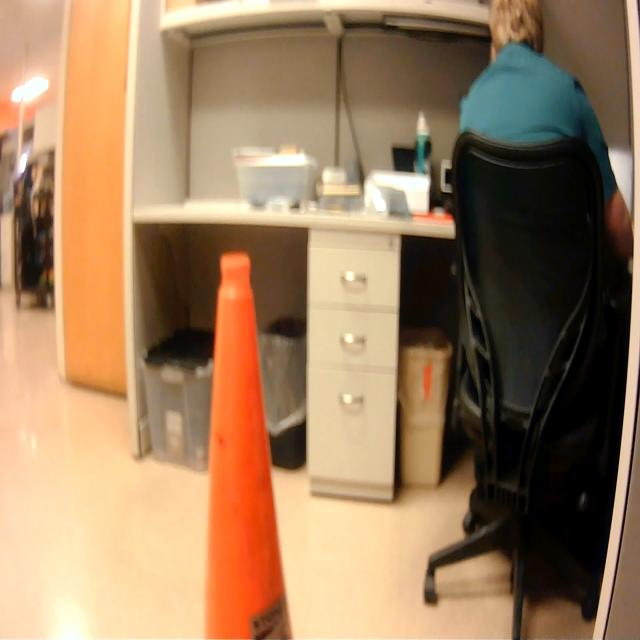traffic cone: (190, 237, 304, 640)
